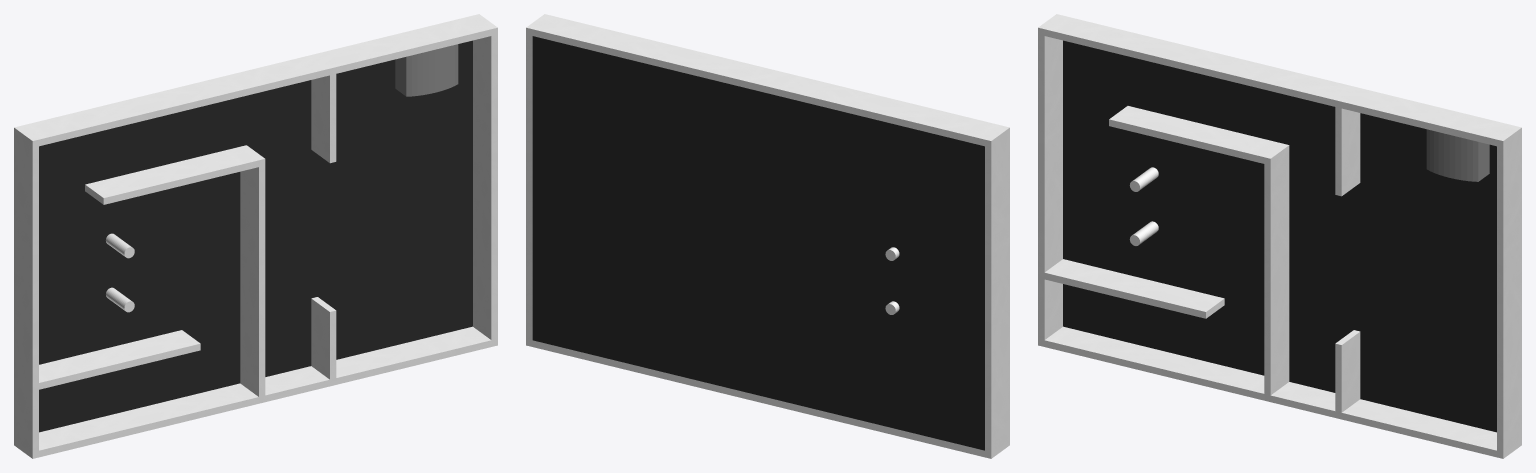
Rendered from demo_room.glb.
The picture shows the model from 3 angles, left to right: view 1: azimuth 30°, elevation 25°; view 2: azimuth 150°, elevation 25°; view 3: azimuth 330°, elevation 25°; orthographic projection.
Visible parts, largest first — view 1: Plane.002, Plane.001, Plane.003; view 2: Plane.002, Plane.001; view 3: Plane.002, Plane.001, Plane.003.
Part boxes in pixels (x1,y1,x2,y2): Plane.002: [39, 40, 472, 432]; Plane.001: [14, 14, 497, 458]; Plane.003: [395, 44, 458, 96]; Plane.002: [532, 36, 984, 450]; Plane.001: [526, 14, 1009, 458]; Plane.002: [1063, 40, 1496, 432]; Plane.001: [1038, 14, 1521, 458]; Plane.003: [1426, 129, 1489, 181].
Bounding box in the file's own units: 36 × 23.5 × 3.
Materials: 3 (1 with a texture image).
